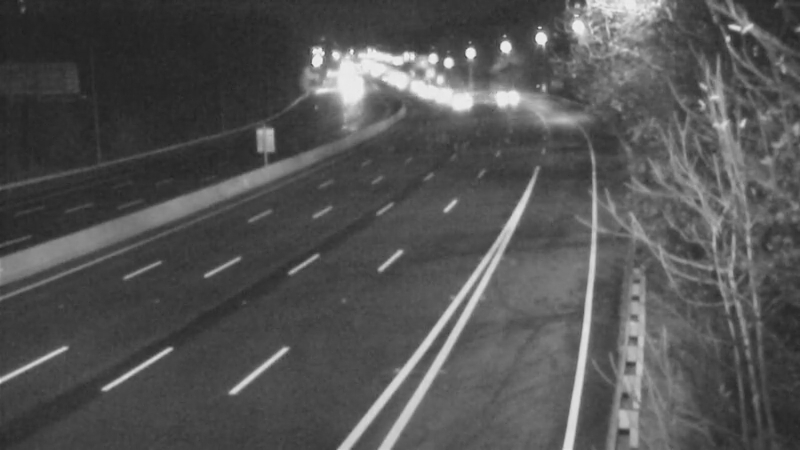vehicle: (399, 69, 449, 119), (419, 67, 469, 117), (434, 79, 484, 129), (475, 71, 525, 121)
